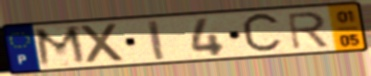4: (188, 16, 227, 58)
C: (239, 11, 285, 57)
I: (145, 18, 167, 62)
M: (32, 24, 91, 69)
R: (284, 10, 332, 51)
X: (78, 21, 128, 66)
